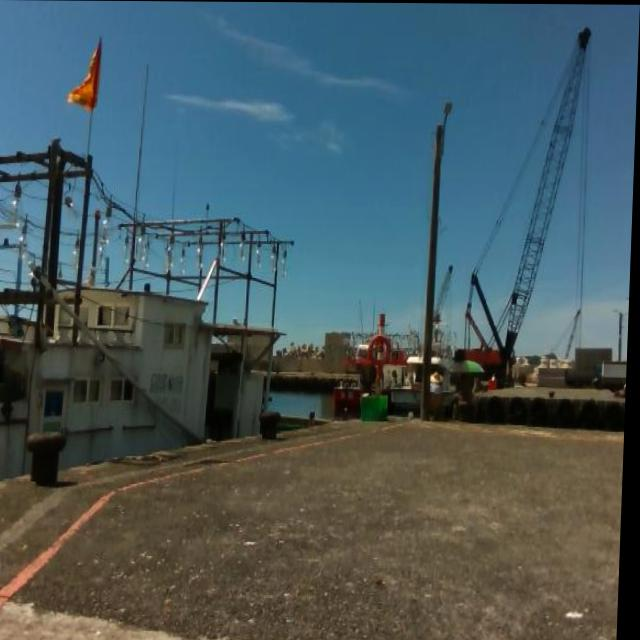pollute: (567, 605, 590, 620)
